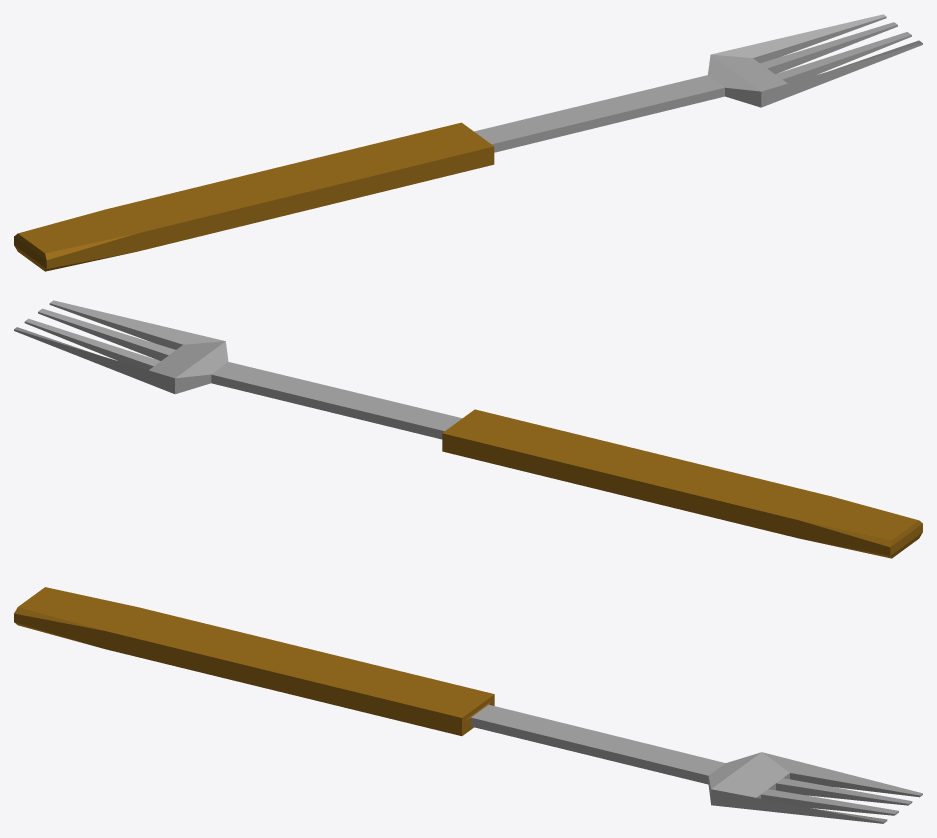
File: tablefork01.obj
The picture shows the model from 3 angles, top to bottom: view 1: azimuth 30°, elevation 25°; view 2: azimuth 150°, elevation 25°; view 3: azimuth 330°, elevation 25°; orthographic projection.
Visible parts, largest first — view 1: Cube_Cube.001; view 2: Cube_Cube.001; view 3: Cube_Cube.001.
Boxes of the visible parts, bbox=[...] form: Cube_Cube.001: bbox=[14, 14, 922, 271]; Cube_Cube.001: bbox=[14, 300, 922, 558]; Cube_Cube.001: bbox=[14, 587, 922, 823].
Size of the model in its own units: 0.1903 by 0.0043 by 0.0192.
